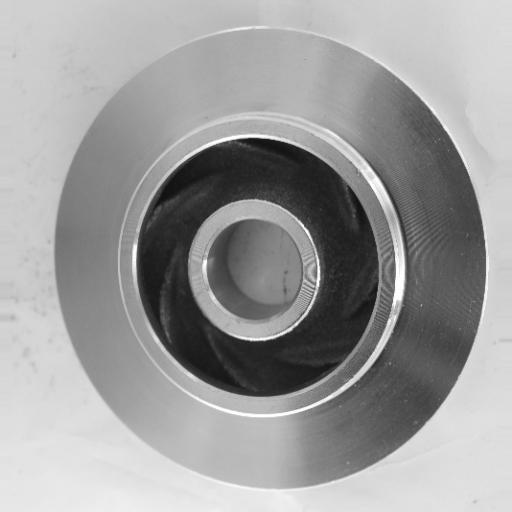polished_casting: (55, 25, 488, 492)
